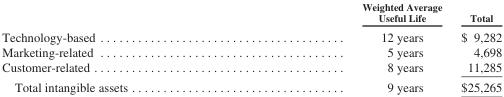table: (1, 1, 501, 94)
table column: (1, 1, 244, 94), (244, 1, 450, 94), (450, 1, 501, 94)
table column header: (1, 1, 501, 26)
table row: (1, 1, 501, 26), (1, 26, 501, 44), (1, 76, 501, 94), (1, 59, 501, 76), (1, 44, 501, 59)
